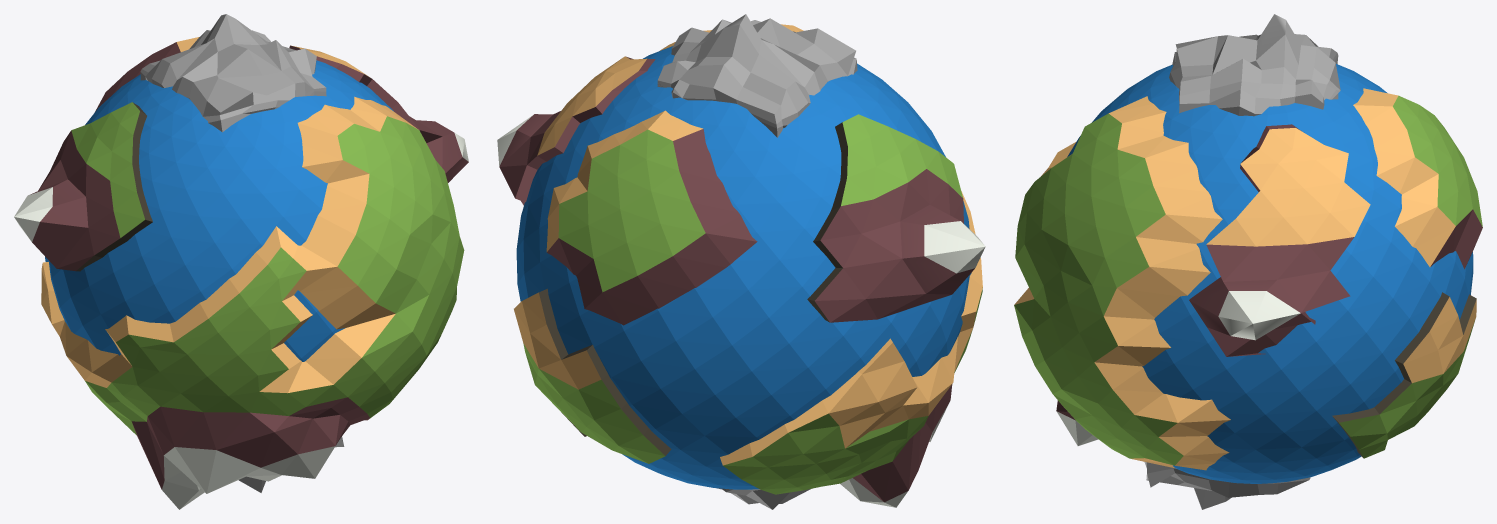
File: planet_with_icecaps_model.fbx
3 renders of one model, left to right at view 1: azimuth 30°, elevation 25°; view 2: azimuth 150°, elevation 25°; view 3: azimuth 270°, elevation 25°, orthographic. The views are drawn at different scales.
Parts seen in each view (by area): view 1: pSphere3, pSphere4, ice_caps; view 2: pSphere3, pSphere4, ice_caps; view 3: pSphere3, pSphere4, ice_caps.
Part boxes in pixels (left/top/right/bottom): pSphere3: left=14, top=37, right=468, bottom=509; pSphere4: left=45, top=60, right=393, bottom=361; ice_caps: left=140, top=14, right=344, bottom=492; pSphere3: left=497, top=24, right=985, bottom=507; pSphere4: left=516, top=46, right=971, bottom=489; ice_caps: left=657, top=14, right=857, bottom=509; pSphere3: left=1014, top=88, right=1482, bottom=470; pSphere4: left=1067, top=64, right=1473, bottom=483; ice_caps: left=1144, top=14, right=1340, bottom=509.
Bounding box in the file's own units: 236 × 233 × 200.
